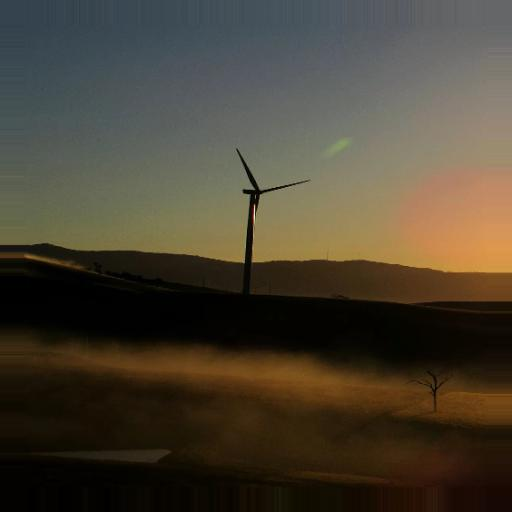wind turbine: (231, 145, 310, 290)
